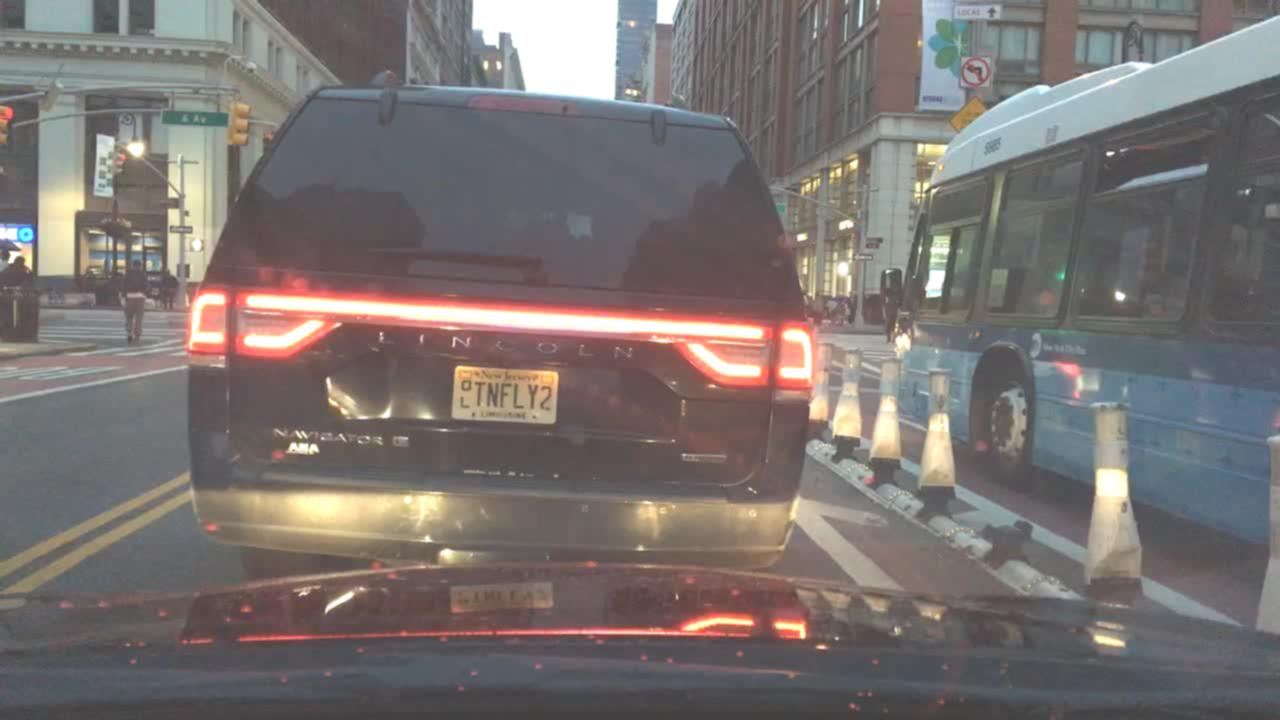lincoln: (369, 323, 647, 372)
